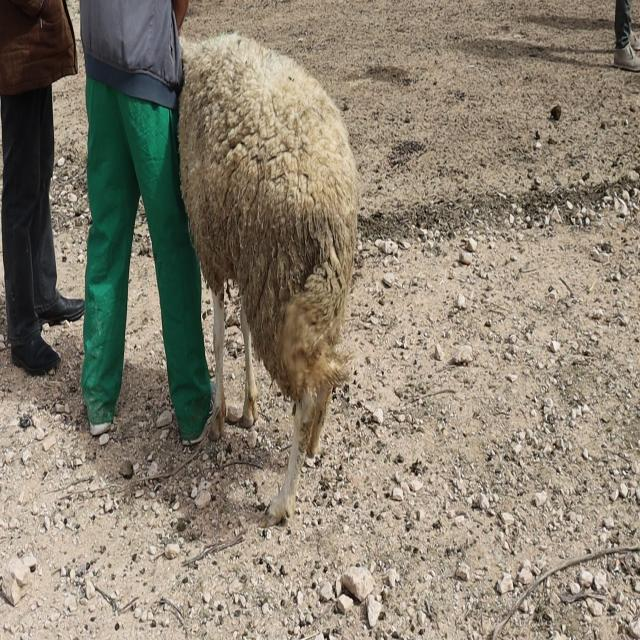Score_3: (178, 33, 358, 527)
